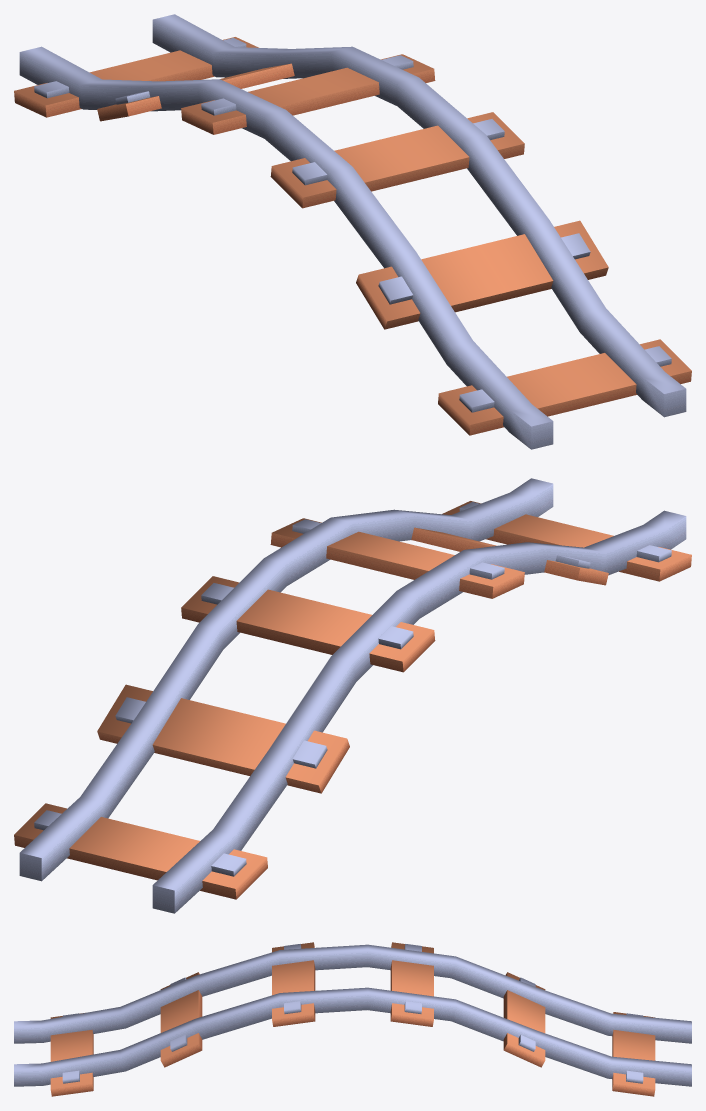
The model's file is railroad-straight-bump-up.glb.
3 renders of one model, top to bottom at view 1: azimuth 30°, elevation 25°; view 2: azimuth 150°, elevation 25°; view 3: azimuth 270°, elevation 25°, orthographic. The views are drawn at different scales.
Parts seen in each view (by area): view 1: railroad-straight-bump-up; view 2: railroad-straight-bump-up; view 3: railroad-straight-bump-up.
Boxes of the visible parts, x1,y1,x2,y2 form: railroad-straight-bump-up: (14,14,691,449); railroad-straight-bump-up: (14,478,691,913); railroad-straight-bump-up: (14,942,691,1096).
Bounding box in the file's own units: 1 × 0.5987 × 4.
Materials: 1 (1 with a texture image).
